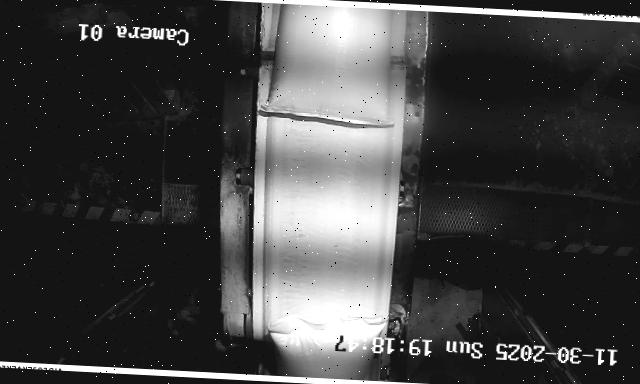bag: (258, 4, 400, 127), (266, 311, 386, 381)
